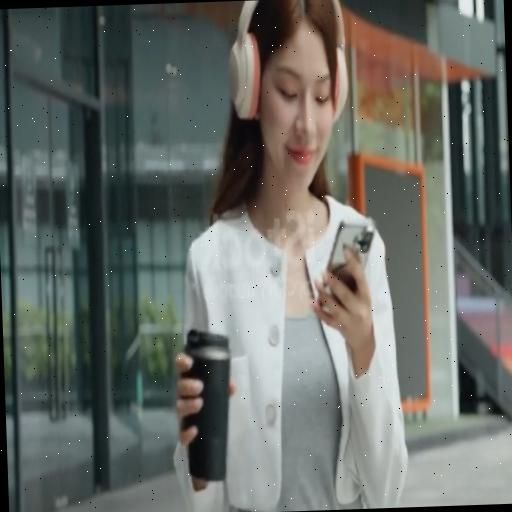earphone: (222, 0, 361, 121)
